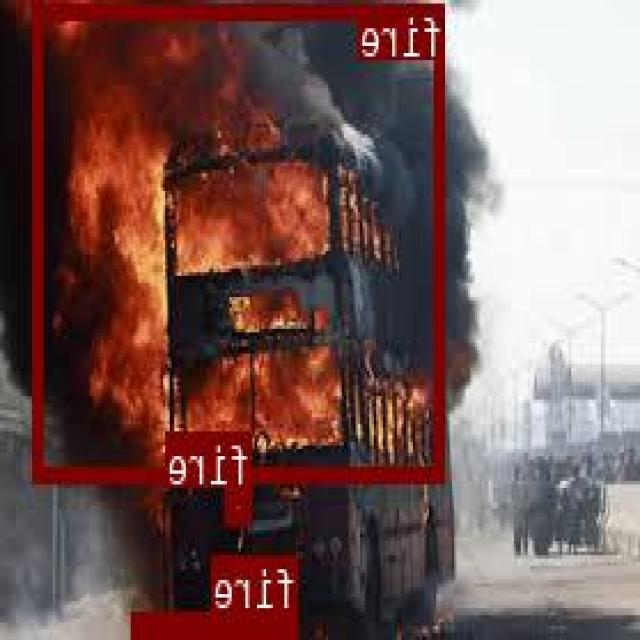fire: (35, 3, 447, 479), (136, 608, 300, 633), (229, 484, 254, 522)
